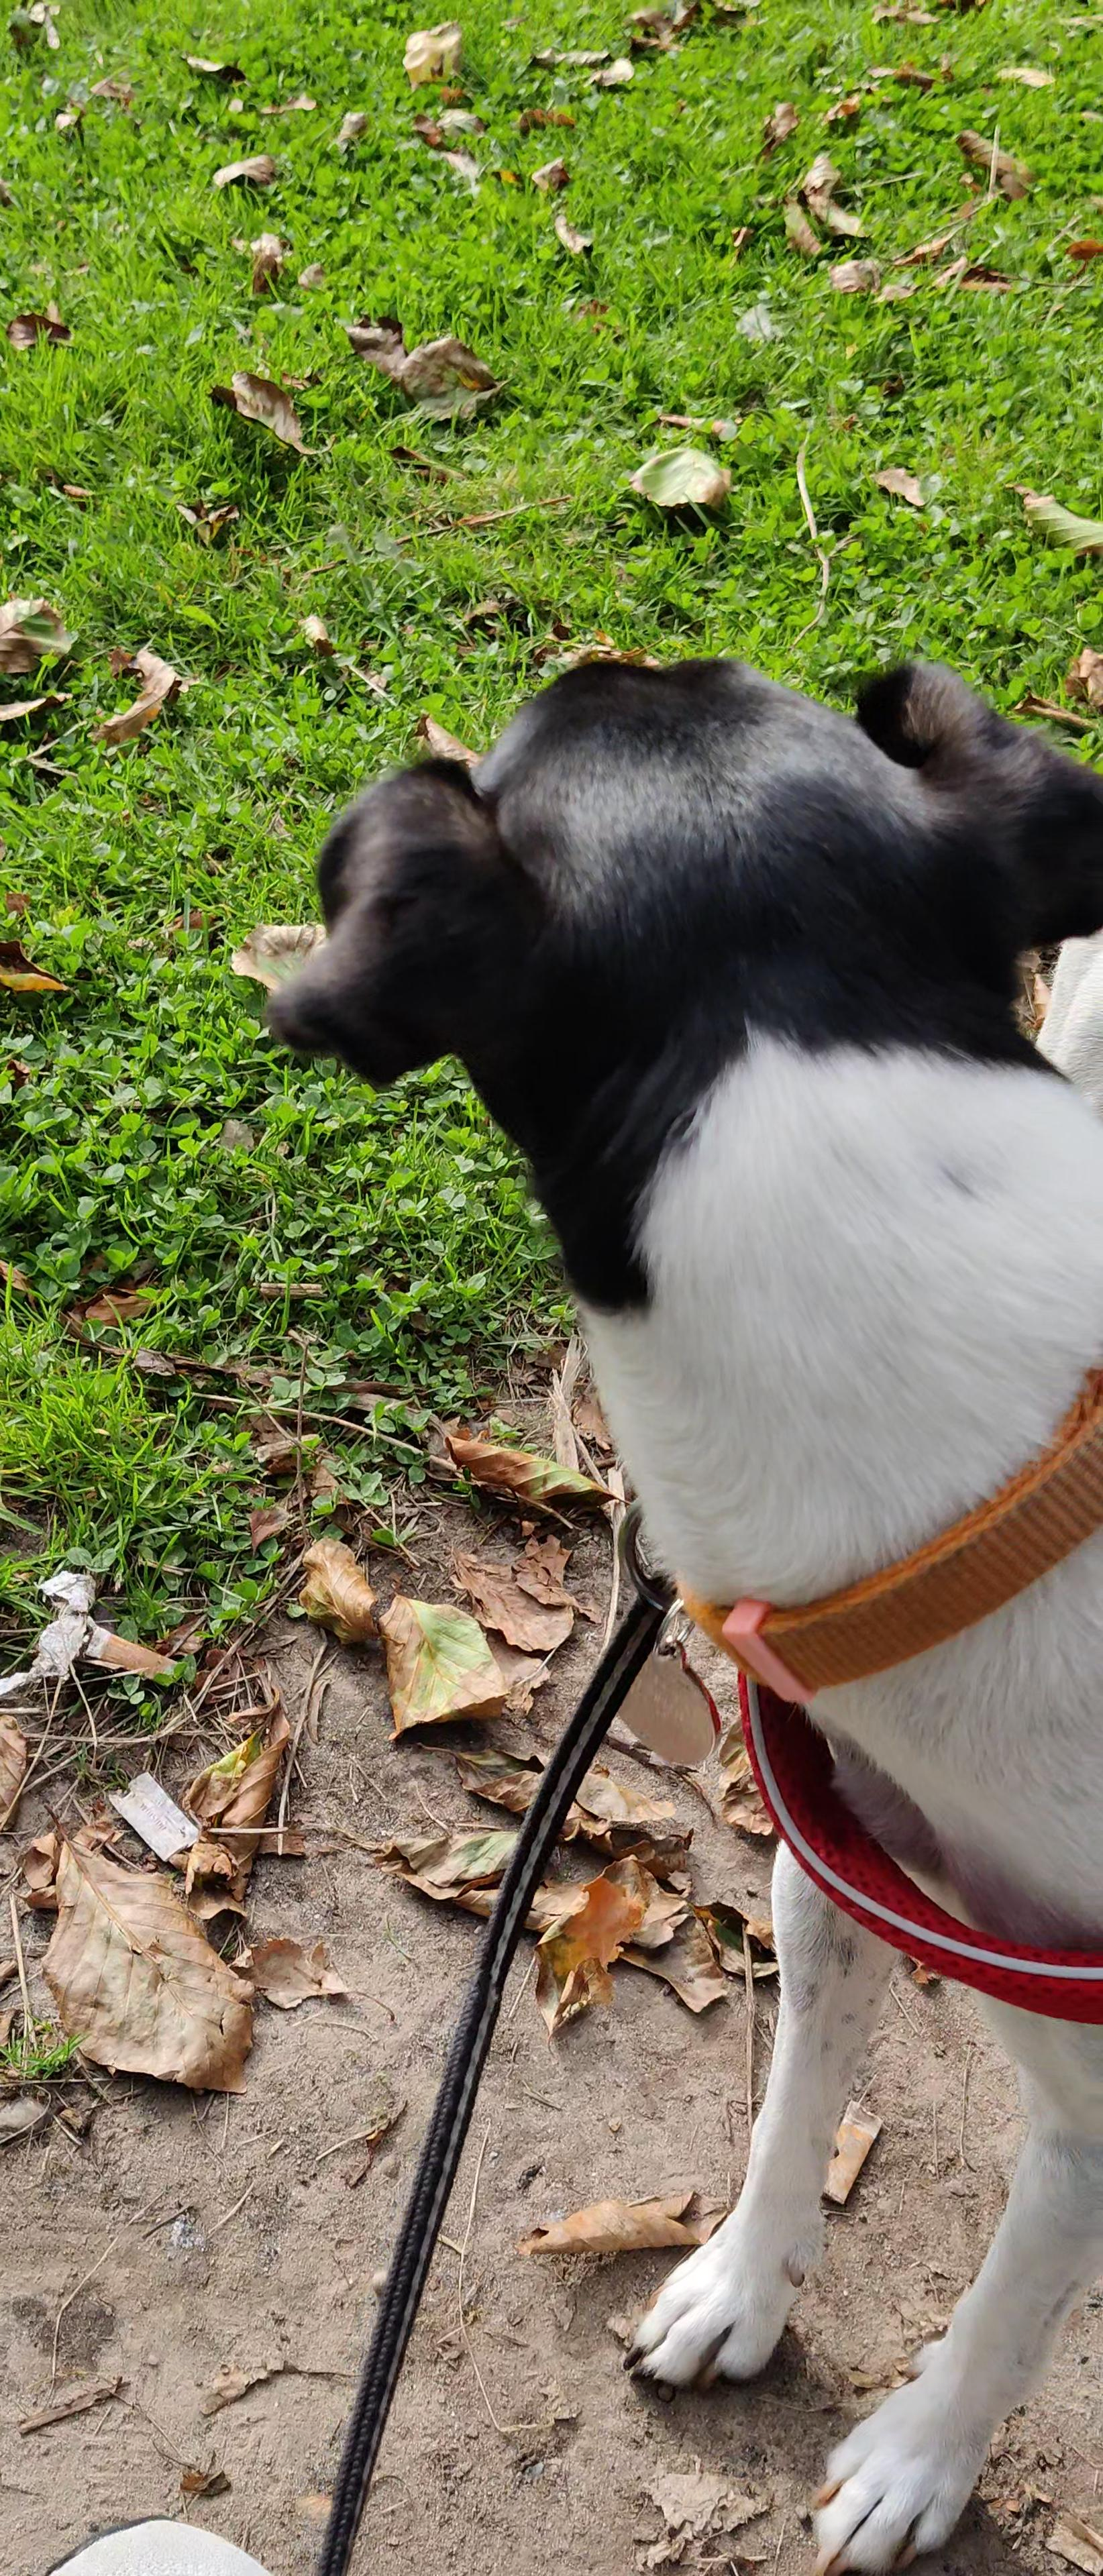Dog: (212, 601, 1103, 2576)
